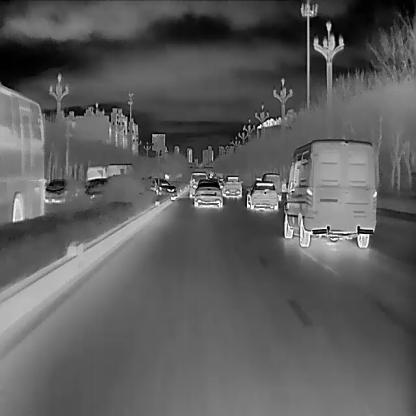car: (280, 138, 378, 248), (0, 83, 44, 223), (245, 181, 278, 211), (191, 177, 223, 207), (148, 177, 176, 203), (187, 170, 208, 197), (259, 173, 281, 197), (43, 178, 65, 201), (221, 176, 241, 197)
